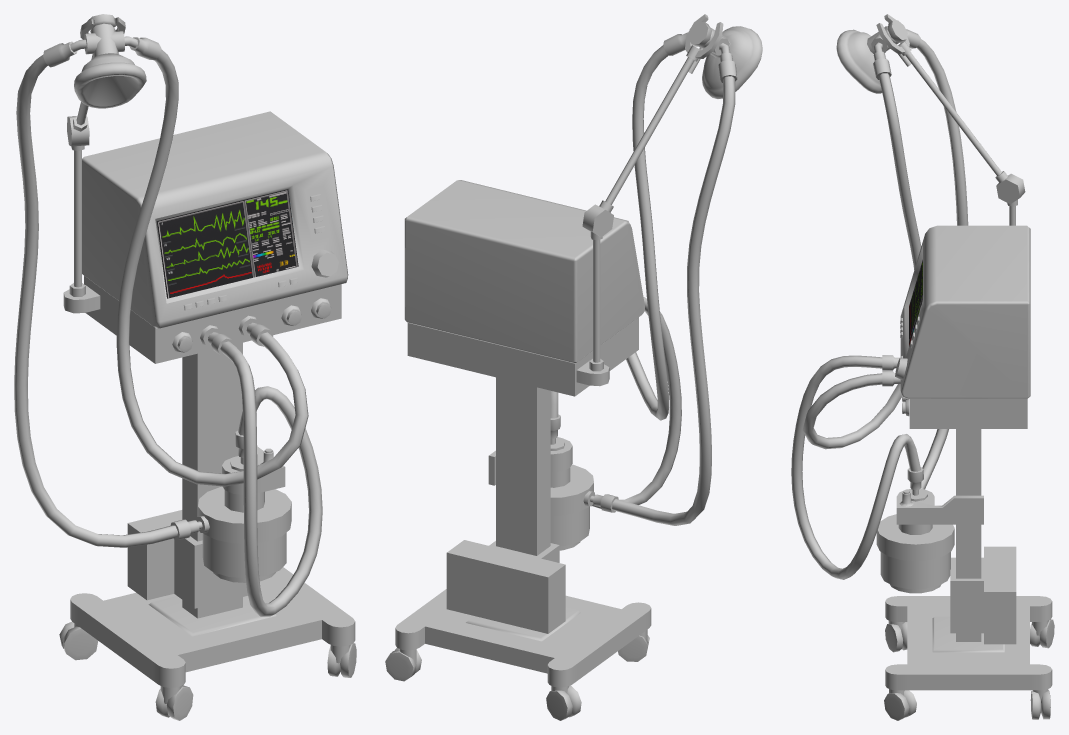
The model's file is Ventilator_01.fbx.
3 views of the same model, side by side, from view 1: azimuth 30°, elevation 25°; view 2: azimuth 150°, elevation 25°; view 3: azimuth 270°, elevation 25° (orthographic). The views are drawn at different scales.
Visible parts, largest first — view 1: Ventilator_01; view 2: Ventilator_01; view 3: Ventilator_01.
Boxes of the visible parts, box(x1,y1,x2,y2) form: Ventilator_01: box(14, 14, 356, 720); Ventilator_01: box(385, 14, 762, 720); Ventilator_01: box(791, 14, 1054, 720).
Bounding box in the file's own units: 82.23 × 71.66 × 180.
